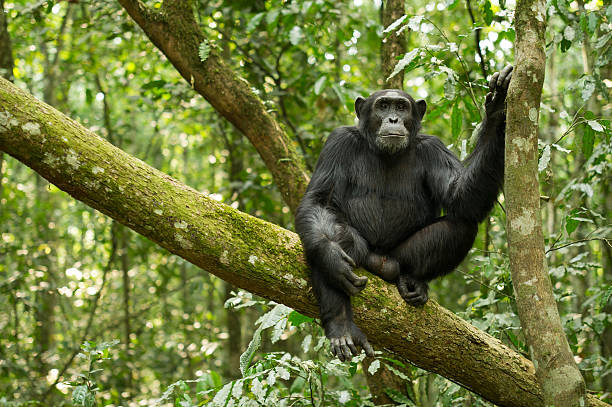chimpanzee: (355, 83, 433, 157)
